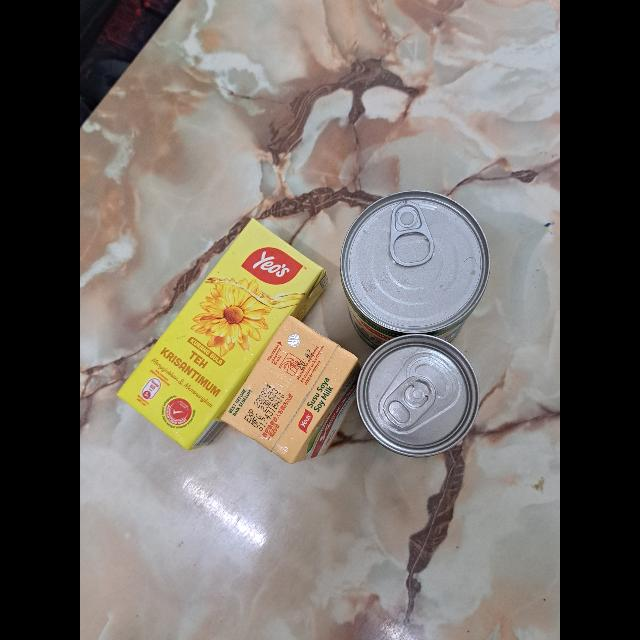aba de lata: (386, 202, 436, 270), (380, 374, 436, 431)
caixinha: (116, 214, 328, 450), (220, 313, 360, 461)
lata: (342, 190, 490, 350), (355, 333, 481, 459)
